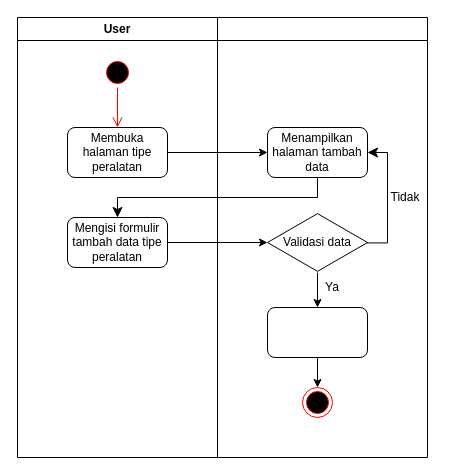
Some shapes in this 453 by 475 pixel diagram are drawn without their labels. The shapes that lost their labels are listed below. From the top down, each one's box as (x1, y1, x2, y2) in pixels, then its label:
(216, 16, 428, 458): Sistem
(266, 306, 368, 358): Menambah data tipe
